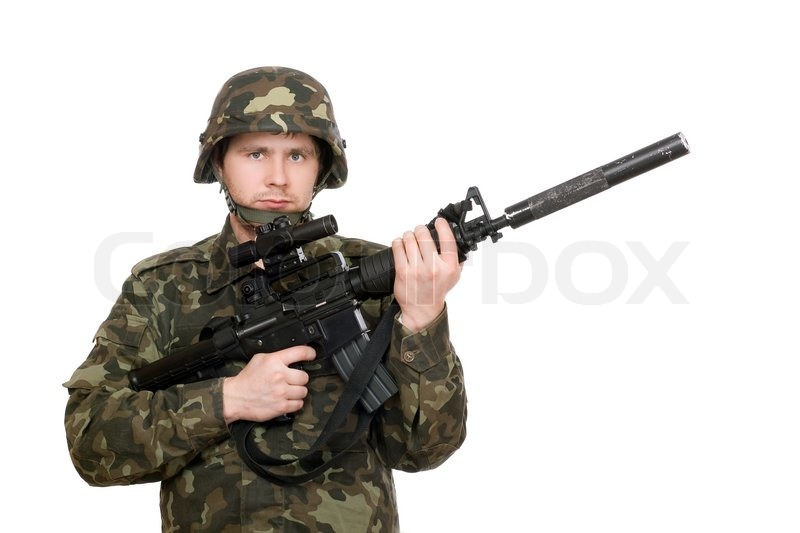Rifle: (125, 131, 696, 424)
